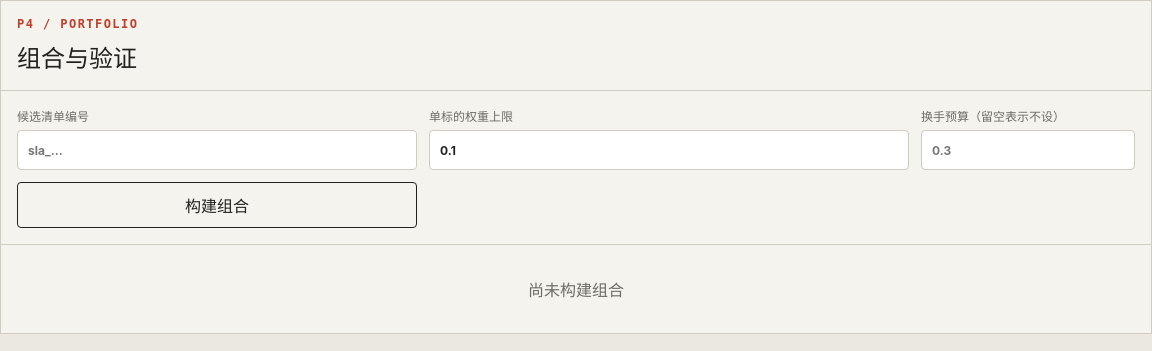
PortfolioPage › renders the server's own refusal, which is how a gated shortlist is explained
Type "sla_blocked" into the field labelled "候选清单编号" at (217, 150), box [17,130,417,170]
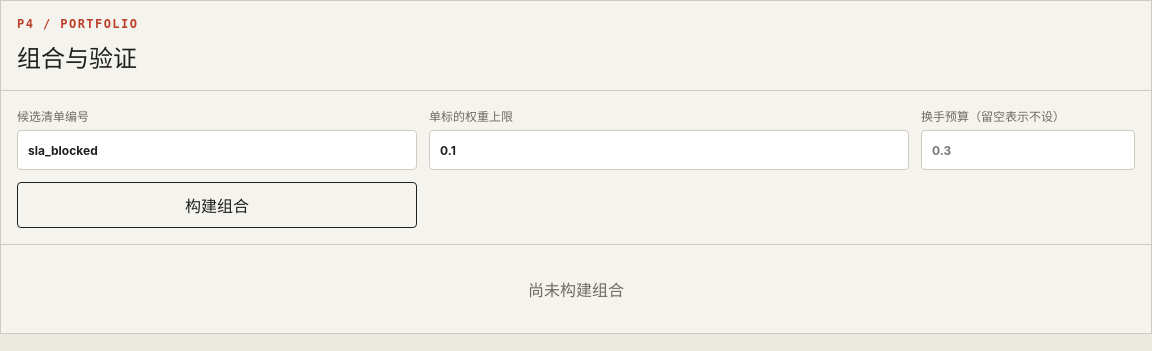
Click the button "构建组合" at (217, 205), box [17,182,417,228]
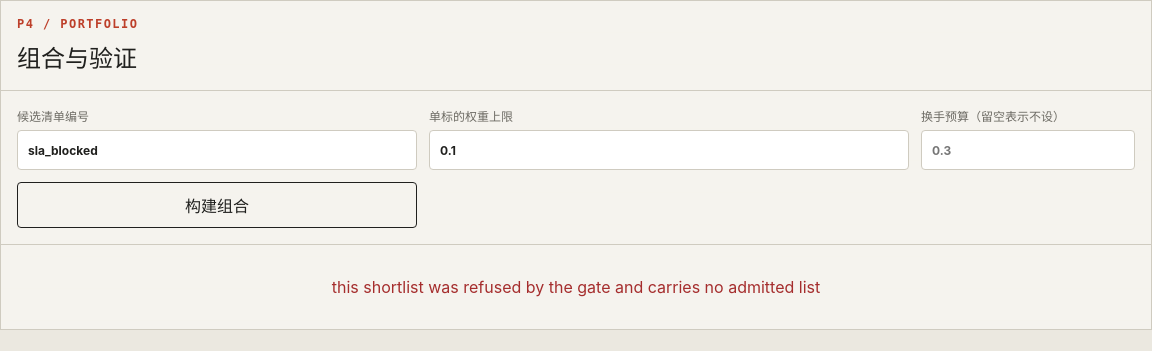
Expected: the message reads "this shortlist was refused by the gate and carries no admitted list", [332,277,820,297]
